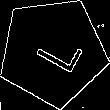L_NW: (23, 25, 82, 78)
